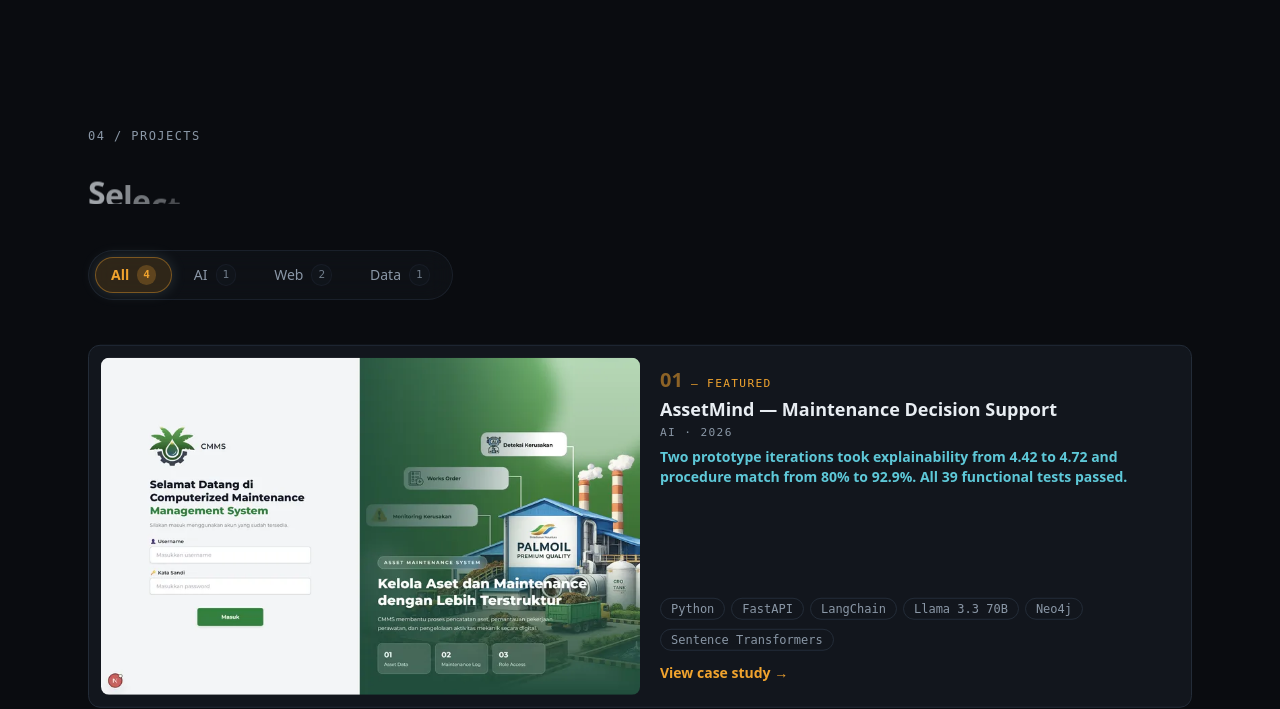
Test: project filter › brings the split back when the filter is cleared
Click the button "AI 1": (215, 275) [178,257,252,293]
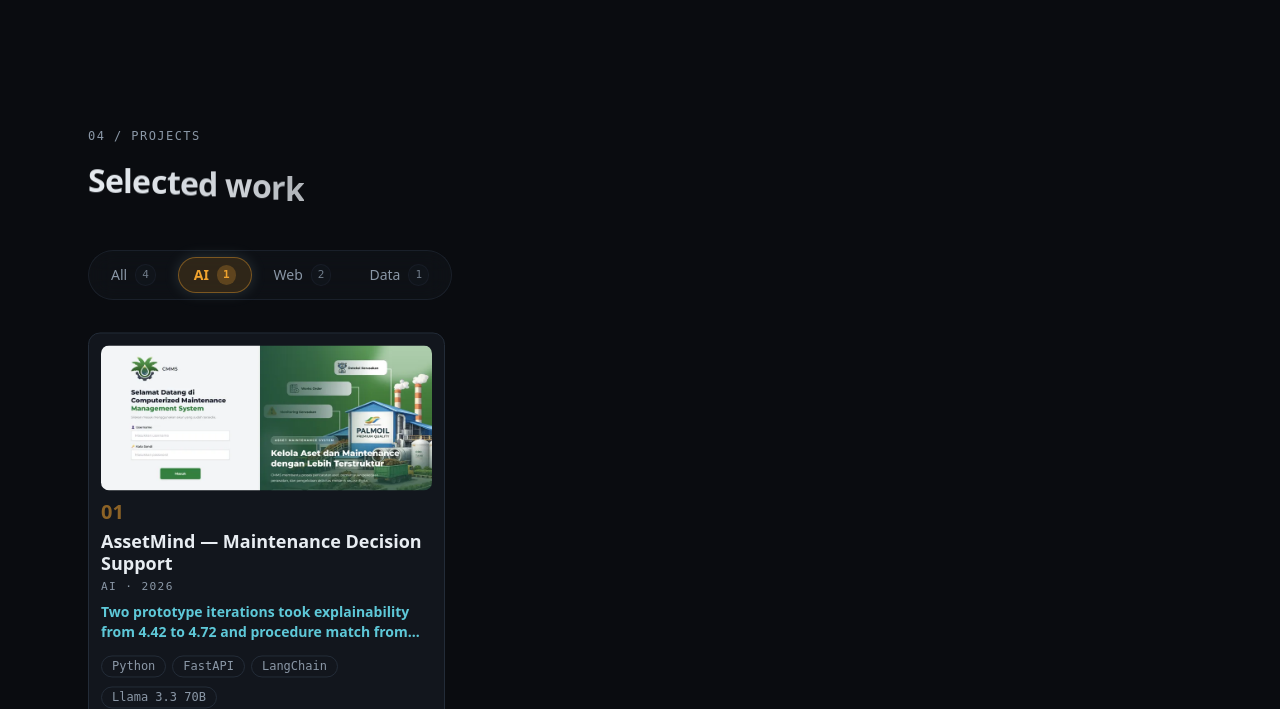
Click the button "All 4": (133, 275) [95,257,172,293]
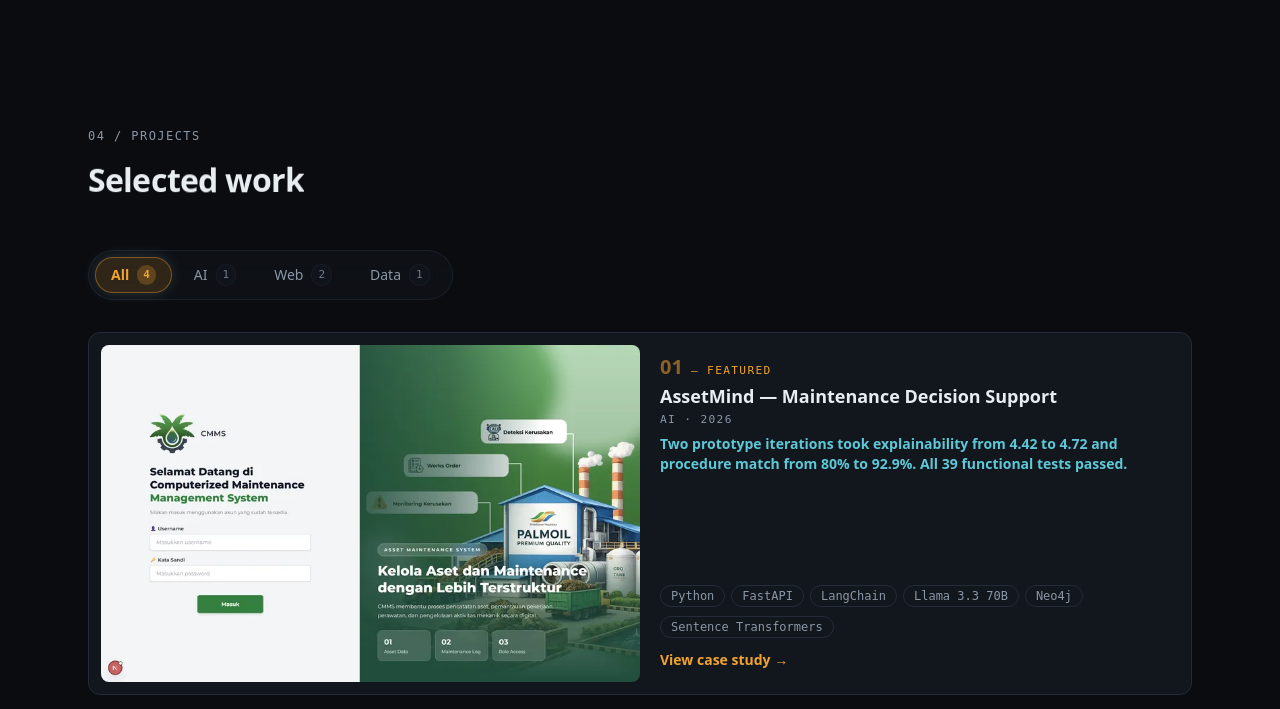
Expected: the text "— Featured" is shown 3 times
